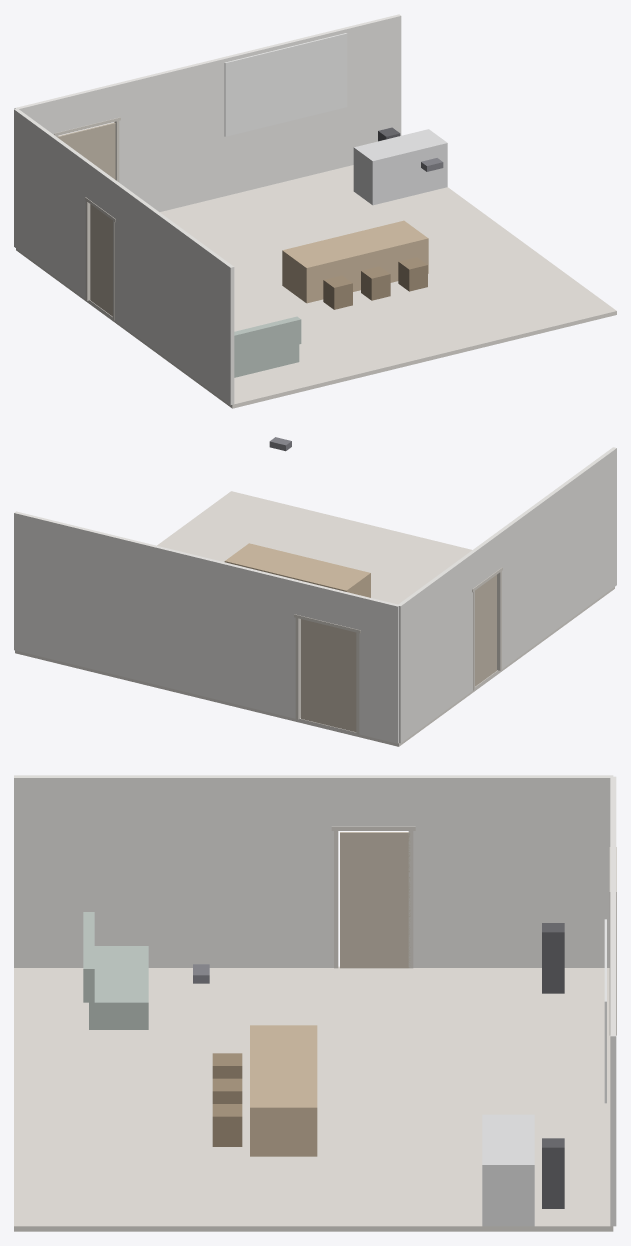
Rendered from scene-partyroom.glb.
3 views of the same model, one above another, from view 1: azimuth 30°, elevation 25°; view 2: azimuth 150°, elevation 25°; view 3: azimuth 270°, elevation 25° (orthographic). The views are drawn at different scales.
Parts seen in each view (by area): view 1: floor, wall_back_r, wall_left_b, wall_left_a, projector_screen, long_table, kitchen_island, wall_back_lintel, door_left, sofa_back, door_back, wall_left_lintel (+6 smaller); view 2: wall_back_r, floor, wall_left_b, wall_left_a, wall_back_l, door_back, long_table, wall_back_lintel, door_left, wall_left_lintel, frame_back_r, frame_left_b; view 3: floor, wall_left_b, wall_left_a, door_left, long_table, kitchen_island, sofa_seat, wall_left_lintel, wall_back_r, speaker_0, speaker_1, chair_5 (+5 smaller).
Boxes of the visible parts, x1=… form: floor: x1=16, y1=165, x2=616, y2=408; wall_back_r: x1=116, y1=14, x2=401, y2=212; wall_left_b: x1=114, y1=182, x2=234, y2=405; wall_left_a: x1=14, y1=109, x2=88, y2=298; projector_screen: x1=224, y1=33, x2=347, y2=136; long_table: x1=282, y1=220, x2=428, y2=303; kitchen_island: x1=353, y1=129, x2=447, y2=205; wall_back_lintel: x1=52, y1=83, x2=120, y2=132; door_left: x1=90, y1=204, x2=112, y2=316; sofa_back: x1=234, y1=316, x2=301, y2=360; door_back: x1=58, y1=122, x2=115, y2=179; wall_left_lintel: x1=85, y1=161, x2=118, y2=218; wall_back_r: x1=14, y1=511, x2=298, y2=718; floor: x1=15, y1=491, x2=614, y2=746; wall_left_b: x1=498, y1=447, x2=616, y2=668; wall_left_a: x1=398, y1=552, x2=472, y2=743; wall_back_l: x1=358, y1=595, x2=399, y2=743; door_back: x1=301, y1=619, x2=356, y2=731; long_table: x1=224, y1=543, x2=370, y2=597; wall_back_lintel: x1=294, y1=580, x2=360, y2=629; door_left: x1=475, y1=575, x2=496, y2=686; wall_left_lintel: x1=470, y1=531, x2=502, y2=588; frame_back_r: x1=295, y1=616, x2=300, y2=719; frame_left_b: x1=497, y1=569, x2=501, y2=670; floor: x1=14, y1=966, x2=613, y2=1231; wall_left_b: x1=14, y1=775, x2=335, y2=967; wall_left_a: x1=411, y1=775, x2=613, y2=967; door_left: x1=340, y1=832, x2=410, y2=968; long_table: x1=250, y1=1025, x2=317, y2=1156; kitchen_island: x1=482, y1=1114, x2=534, y2=1226; sofa_seat: x1=89, y1=946, x2=148, y2=1029; wall_left_lintel: x1=331, y1=775, x2=415, y2=826; wall_back_r: x1=610, y1=845, x2=616, y2=1226; speaker_0: x1=542, y1=923, x2=564, y2=993; speaker_1: x1=542, y1=1138, x2=564, y2=1208; chair_5: x1=212, y1=1104, x2=242, y2=1146.
Size of the model in its own units: 8.25 by 2.88 by 8.05.
